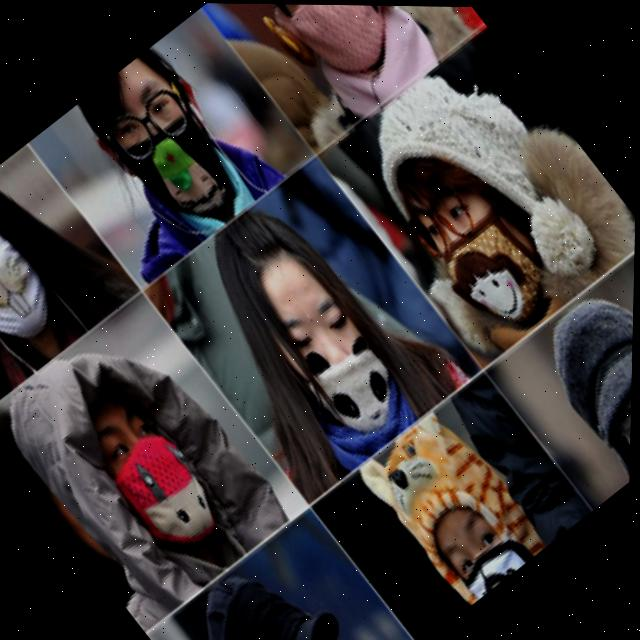Mask: (97, 76, 256, 235), (95, 425, 238, 571), (430, 194, 564, 330), (294, 316, 414, 439), (266, 3, 414, 87), (0, 219, 75, 361), (458, 526, 538, 600), (605, 366, 634, 472)
